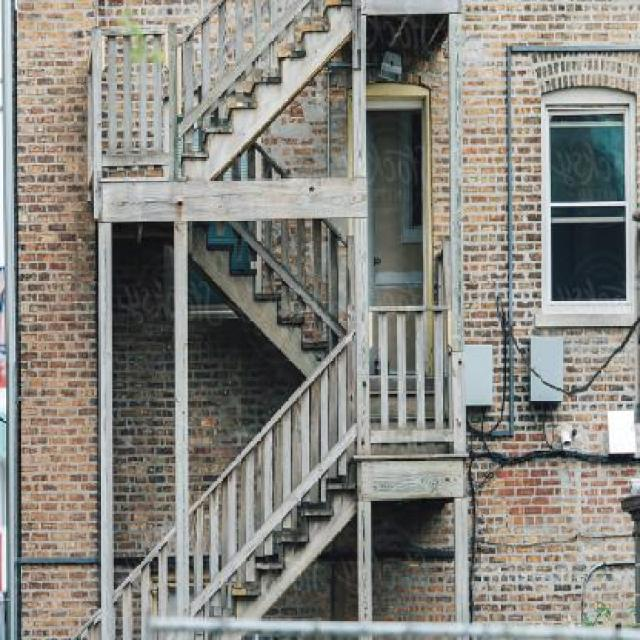stair: (39, 252, 470, 639), (105, 0, 403, 215)
